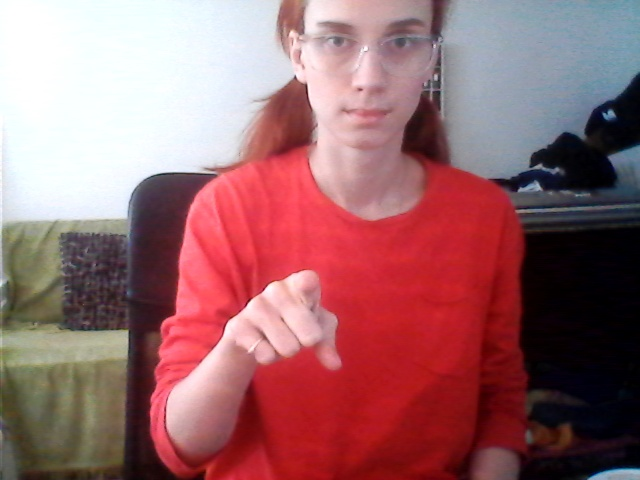ty: (211, 262, 358, 382)
